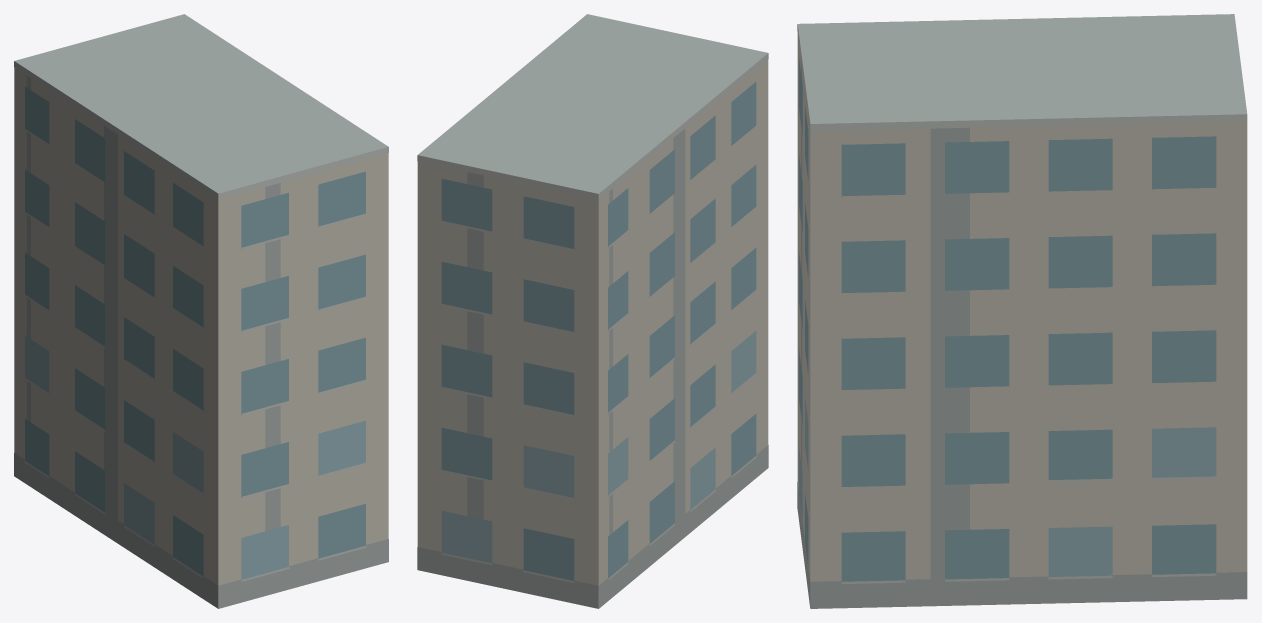
Rendered from survey-upis-32955651.glb.
The picture shows the model from 3 angles, left to right: view 1: azimuth 30°, elevation 25°; view 2: azimuth 150°, elevation 25°; view 3: azimuth 270°, elevation 25°; orthographic projection. The views are drawn at different scales.
Visible parts, largest first — view 1: survey-upis-32955651.tmp; view 2: survey-upis-32955651.tmp; view 3: survey-upis-32955651.tmp.
Boxes of the visible parts, left/top/right/bottom form: survey-upis-32955651.tmp: left=14, top=14, right=388, bottom=608; survey-upis-32955651.tmp: left=417, top=14, right=768, bottom=608; survey-upis-32955651.tmp: left=797, top=14, right=1247, bottom=608.
Bounding box in the file's own units: 7.92 × 16.25 × 13.67.
